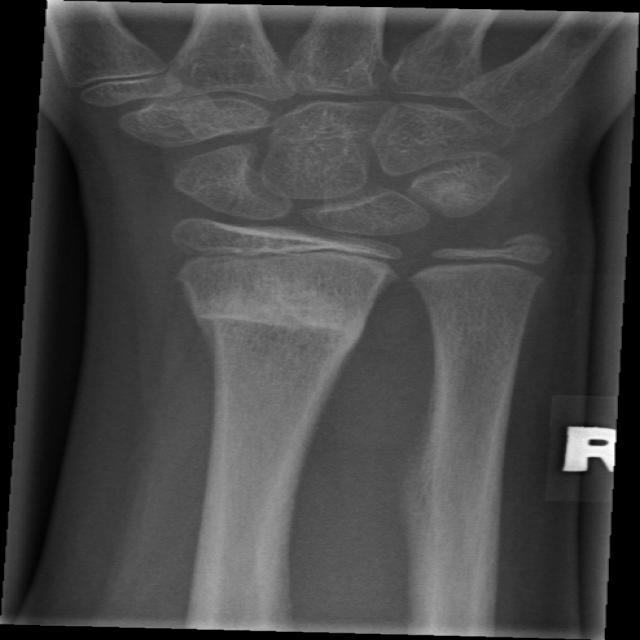radius fracture: (192, 284, 360, 372)
